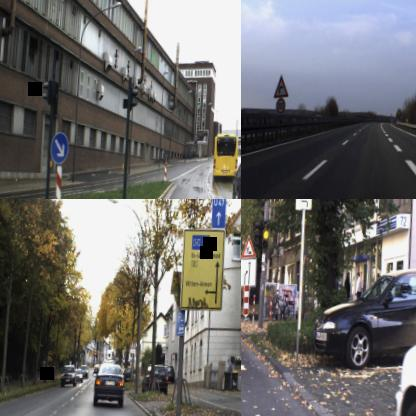CONSTRUCTION: (241, 234, 256, 258)
DANGER: (129, 336, 138, 350)
bend: (273, 74, 290, 100)
keep right: (50, 132, 70, 164)
speed limit 100: (276, 96, 286, 114)
